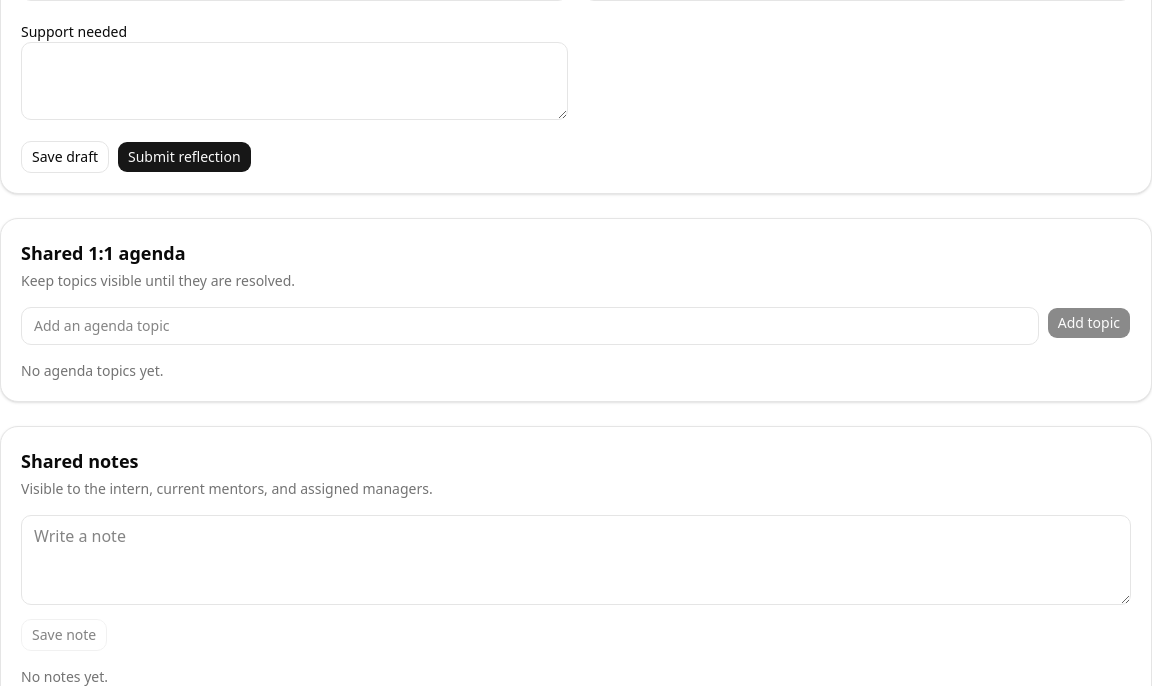
Test case: ProgressHub › locks conflicting controls while one mutation is pending
(page scrolled)
In the field with placeholder "Add an agenda topic": (530, 326) [21,307,1039,345], type "Discuss goals"
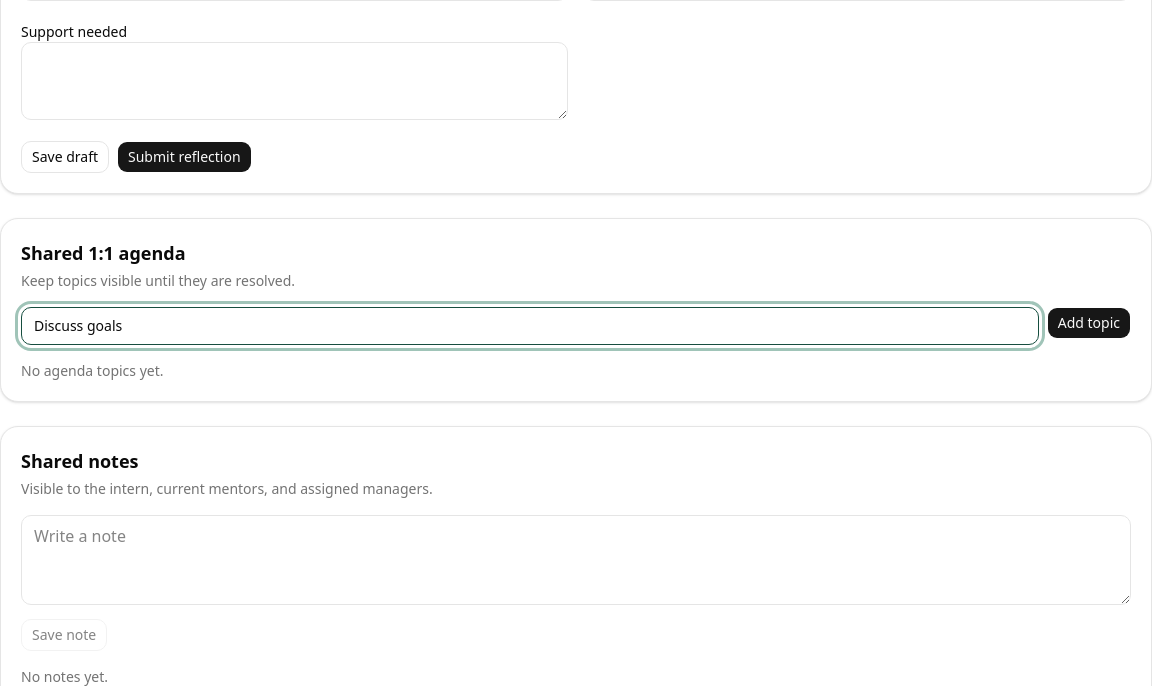
In the text box with placeholder "Write a note": (576, 560) [21,515,1131,605], type "Shared context"
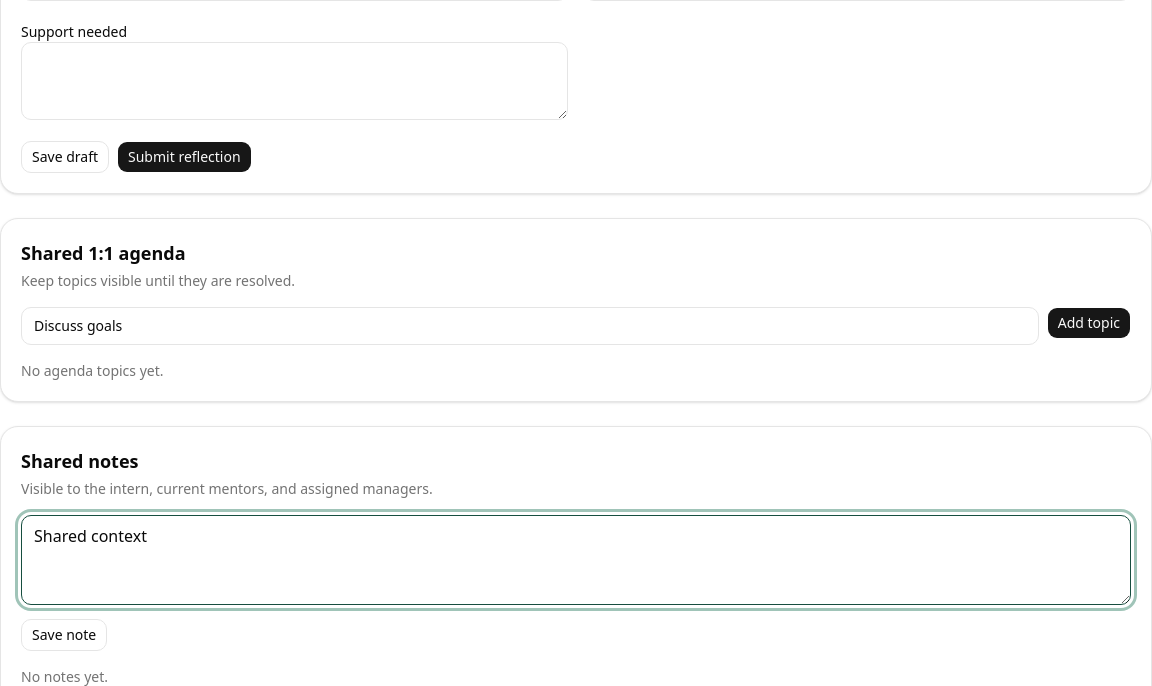
Click the button "Add topic": (1089, 323) [1047,307,1131,339]
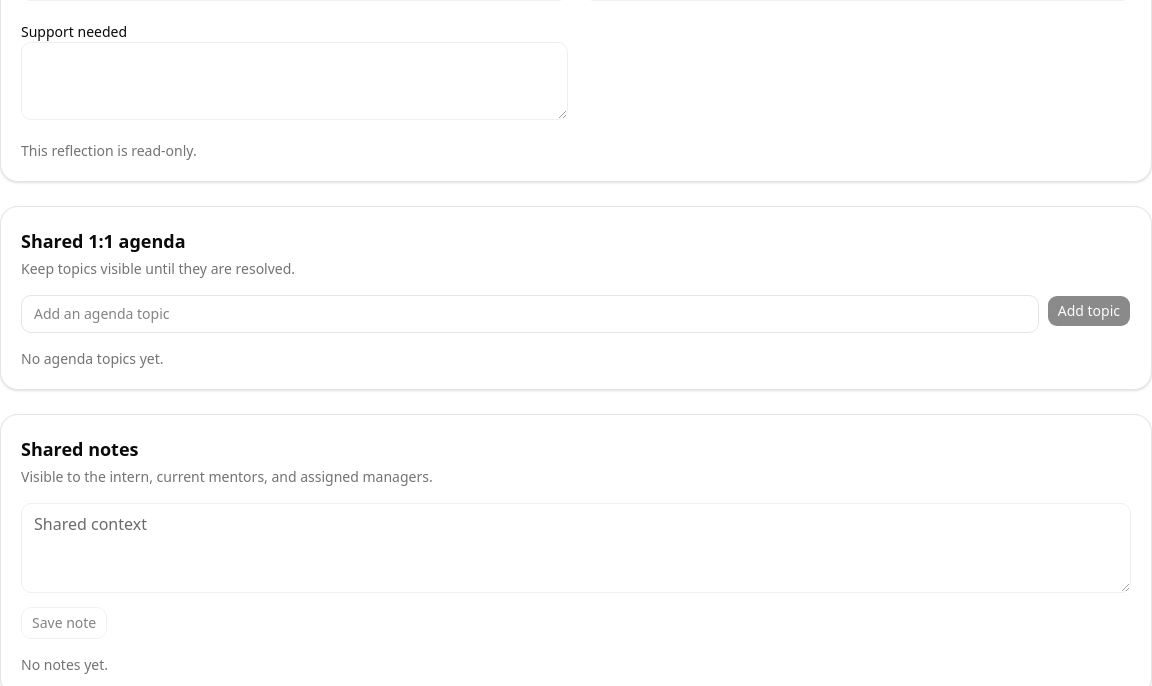
Check: the button "Add topic" is disabled, box [1047,295,1131,327]
